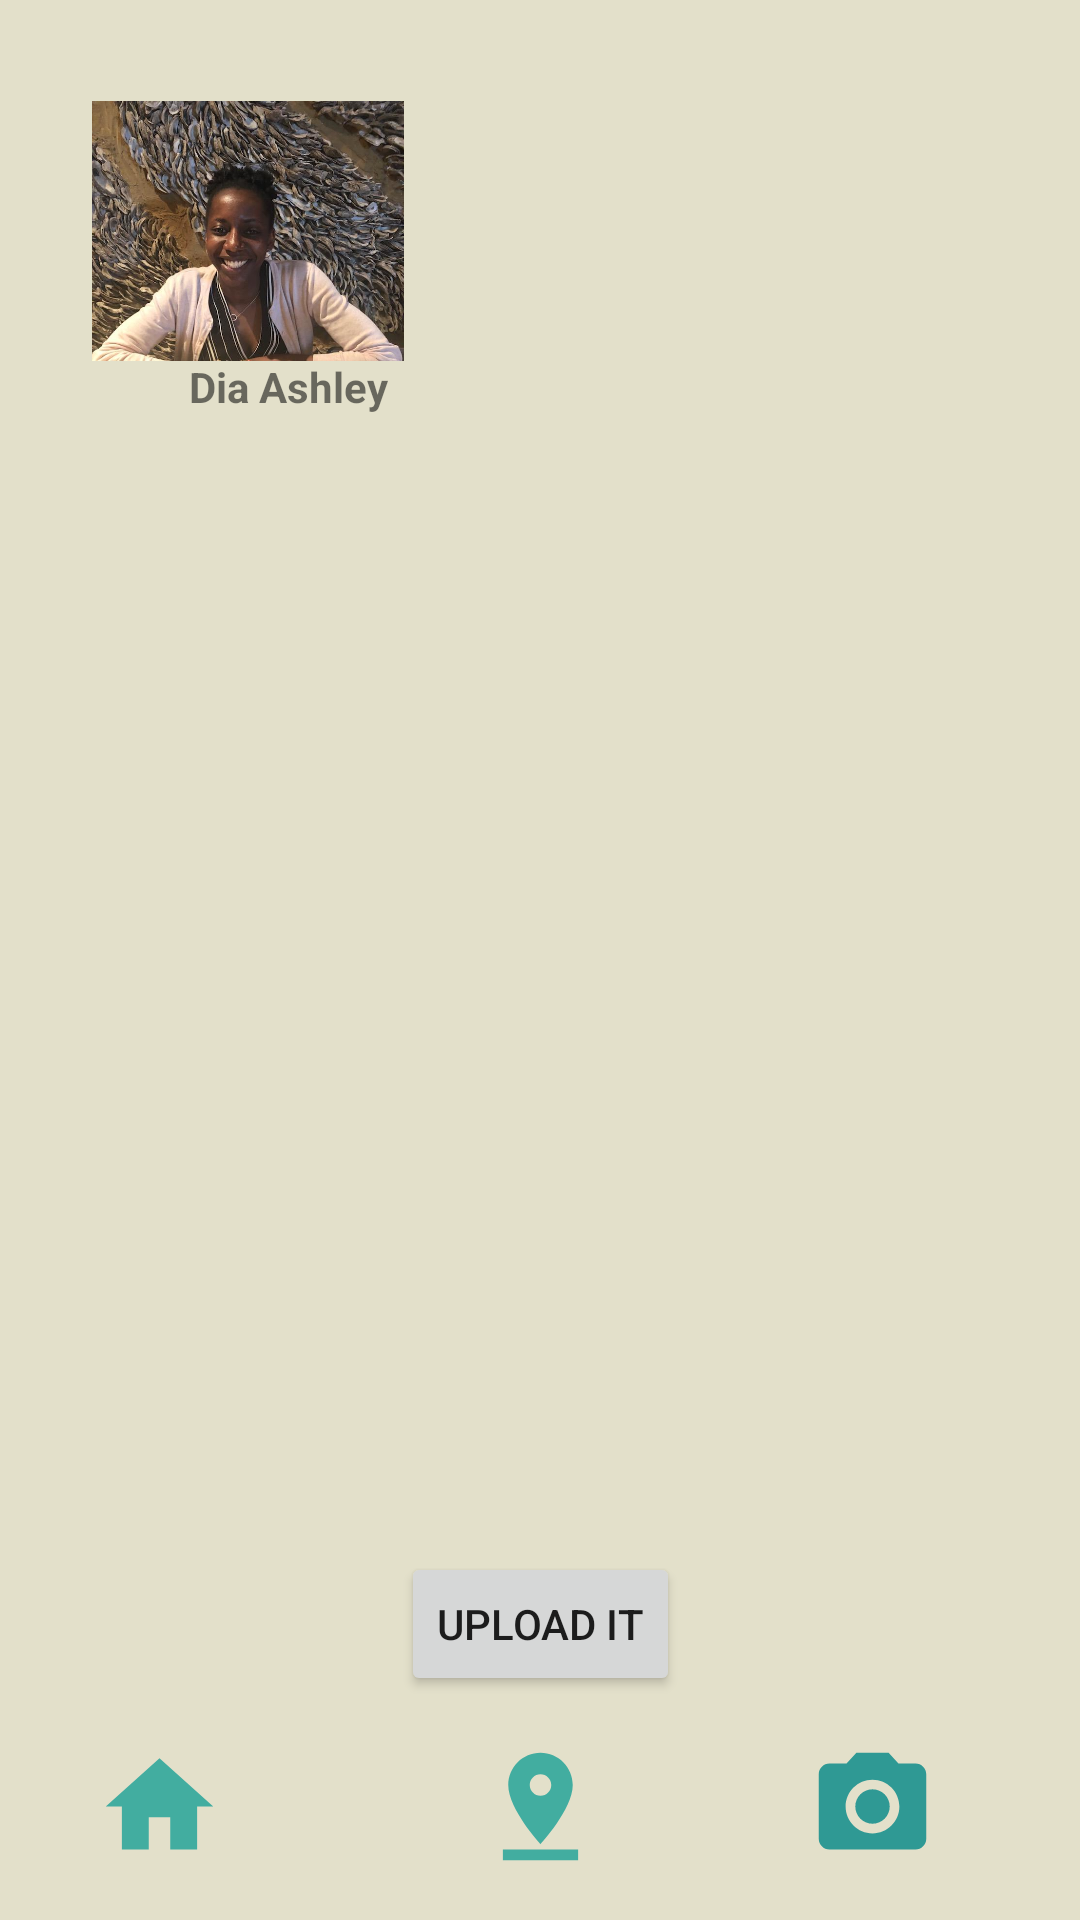

Point at icon controls on the screen. Image size 1080 × 1920, points as (x,y).
camera: (872,1801)
home: (159,1804)
pin: (540,1806)
user shot: (248,250)
